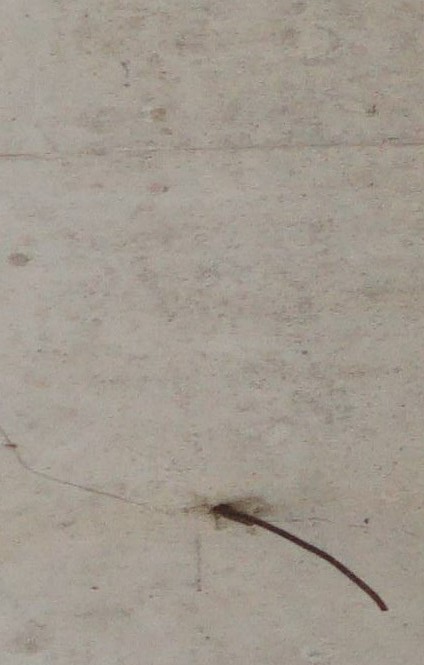Crack: (1, 426, 144, 507)
Exposed reinforcement: (213, 503, 389, 612)
